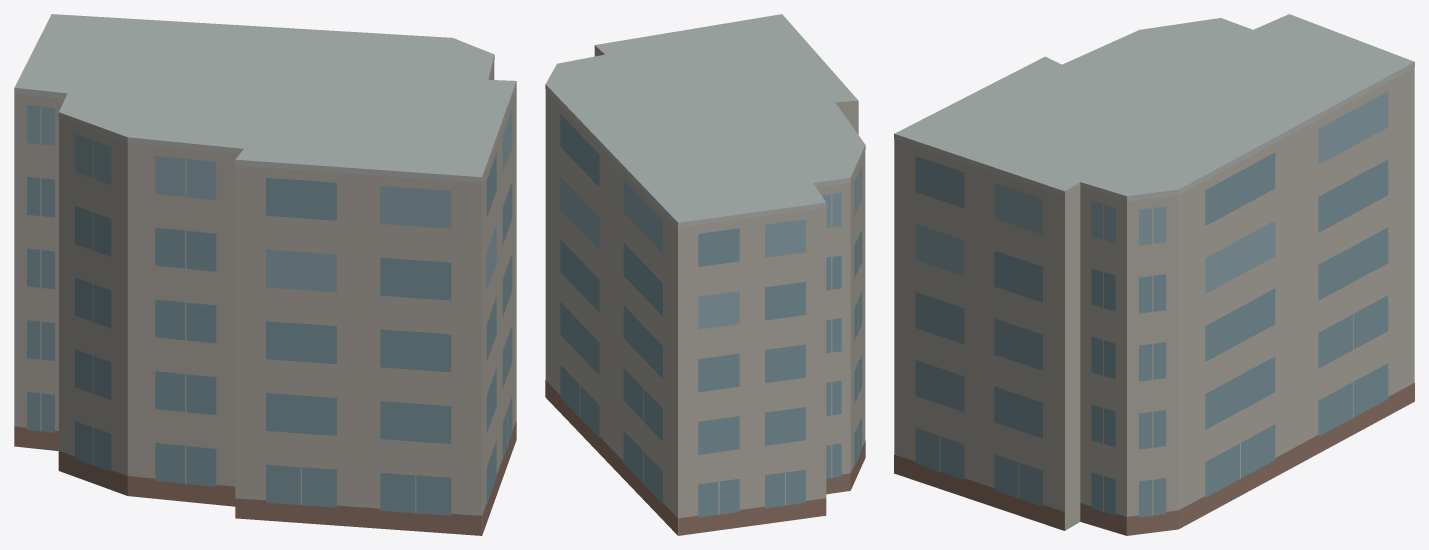
Rendered from survey-upis-33037319.glb.
3 views of the same model, side by side, from view 1: azimuth 30°, elevation 25°; view 2: azimuth 150°, elevation 25°; view 3: azimuth 270°, elevation 25° (orthographic). The views are drawn at different scales.
Parts seen in each view (by area): view 1: survey-upis-33037319.tmp; view 2: survey-upis-33037319.tmp; view 3: survey-upis-33037319.tmp.
Boxes of the visible parts, x1,y1,x2,y2 form: survey-upis-33037319.tmp: [14, 14, 516, 535]; survey-upis-33037319.tmp: [545, 14, 865, 535]; survey-upis-33037319.tmp: [894, 14, 1414, 535].
Bounding box in the file's own units: 17.49 × 15.2 × 21.12.
